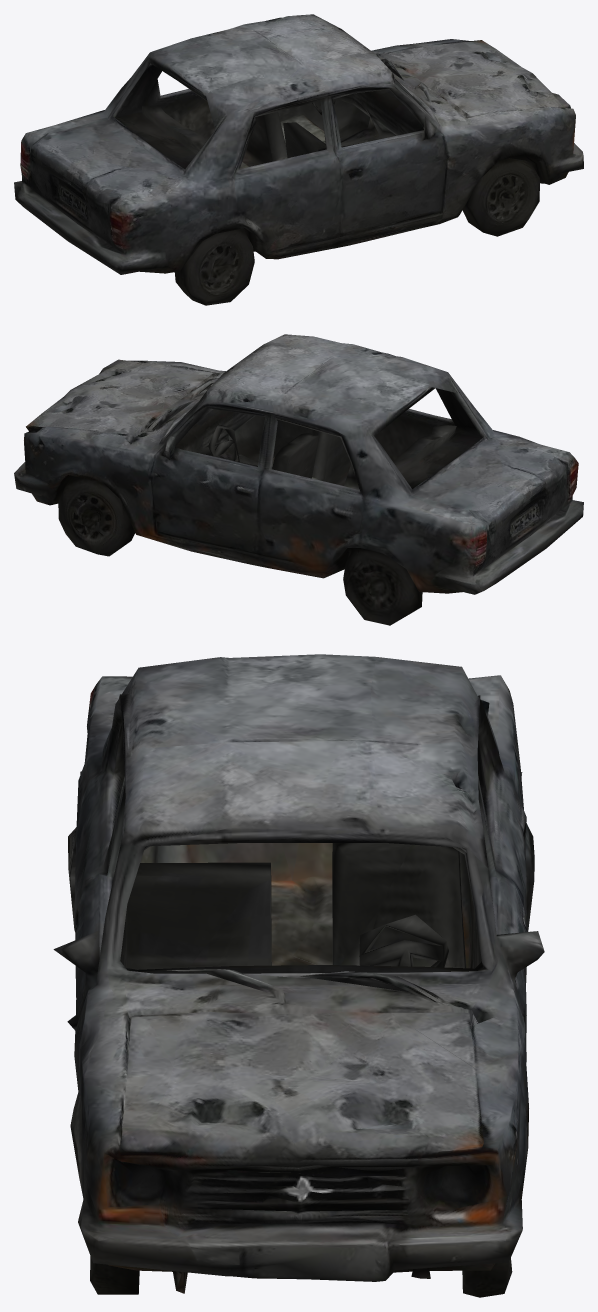
Rendered from e_vaz_burned.glb.
3 views of the same model, one above another, from view 1: azimuth 30°, elevation 25°; view 2: azimuth 150°, elevation 25°; view 3: azimuth 270°, elevation 25° (orthographic). The views are drawn at different scales.
Visible parts, largest first — view 1: tripo_node_52a62e6c-01c4-4bba-93a6-c01ad8689360; view 2: tripo_node_52a62e6c-01c4-4bba-93a6-c01ad8689360; view 3: tripo_node_52a62e6c-01c4-4bba-93a6-c01ad8689360.
Part boxes in pixels (left/top/right/bottom): tripo_node_52a62e6c-01c4-4bba-93a6-c01ad8689360: left=14, top=14, right=583, bottom=305; tripo_node_52a62e6c-01c4-4bba-93a6-c01ad8689360: left=14, top=334, right=583, bottom=625; tripo_node_52a62e6c-01c4-4bba-93a6-c01ad8689360: left=53, top=654, right=544, bottom=1297.
Bounding box in the file's own units: 1 × 0.3746 × 0.4394.
1 material, 1 textured.
